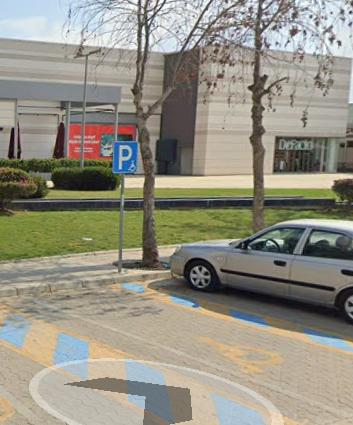disabledpark: (113, 141, 137, 174)
